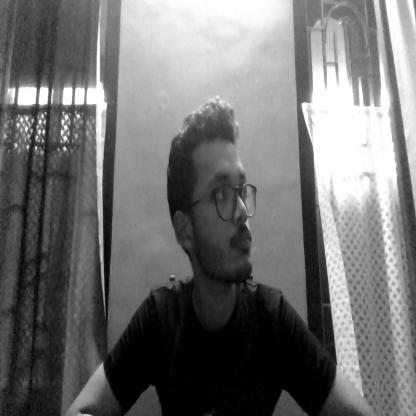Distracted: (168, 112, 266, 300)
